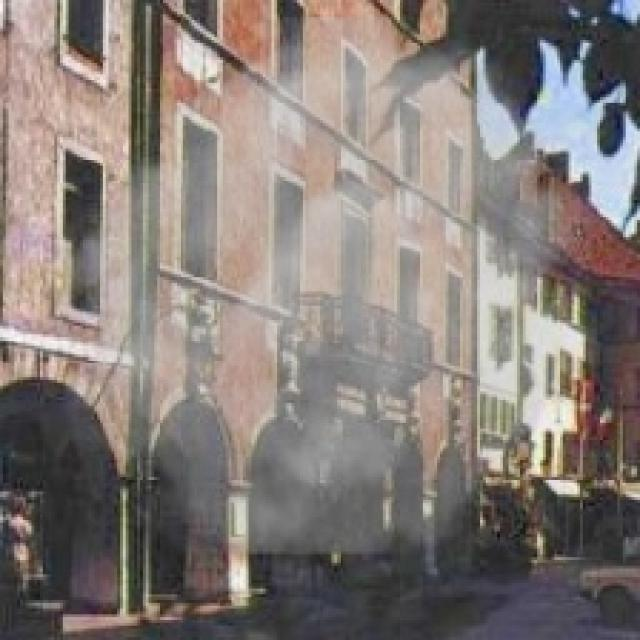Smoke: (42, 17, 608, 554)
